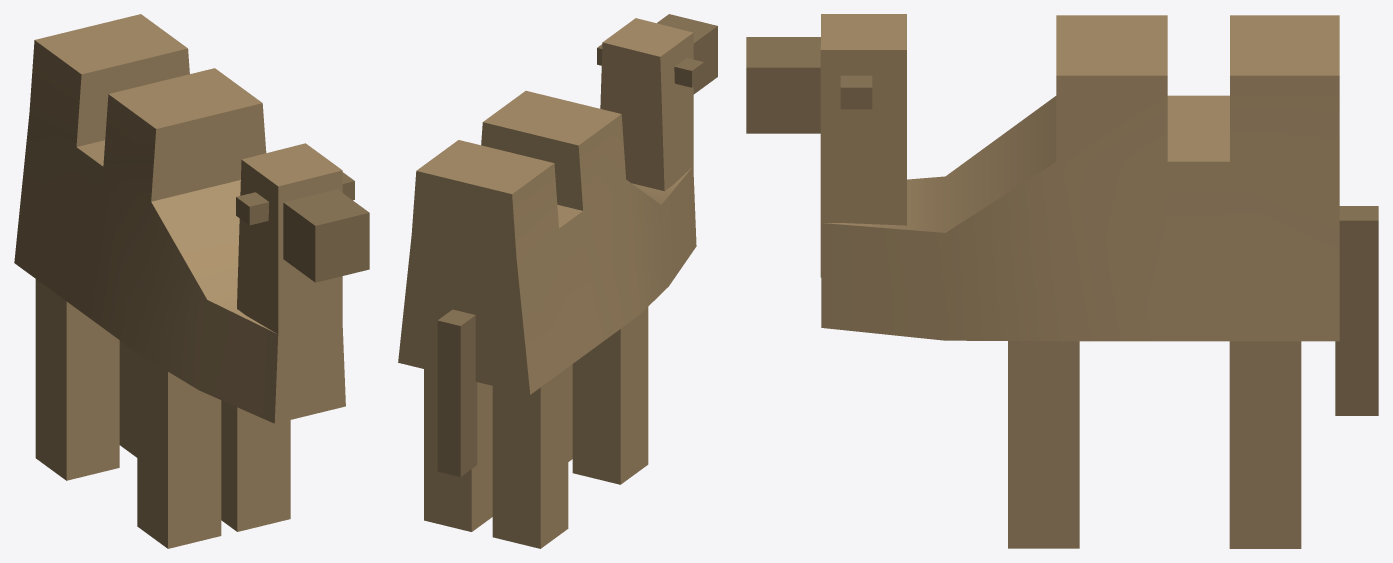
The model's file is Camel.fbx.
3 renders of one model, left to right at view 1: azimuth 30°, elevation 25°; view 2: azimuth 150°, elevation 25°; view 3: azimuth 270°, elevation 25°, orthographic. The views are drawn at different scales.
Parts seen in each view (by area): view 1: polySurface15; view 2: polySurface15; view 3: polySurface15.
Part boxes in pixels (x1,y1,x2,y2): polySurface15: (14,14,369,548); polySurface15: (398,14,717,548); polySurface15: (746,14,1378,548).
Size of the model in its own units: 5.01 by 13.5 by 16.03.
